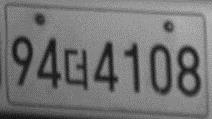0: (148, 43, 173, 96)
1: (121, 41, 145, 94)
4: (91, 40, 119, 92), (35, 37, 62, 89)
8: (176, 45, 201, 97)
9: (10, 35, 34, 86)
더: (62, 47, 89, 91)
